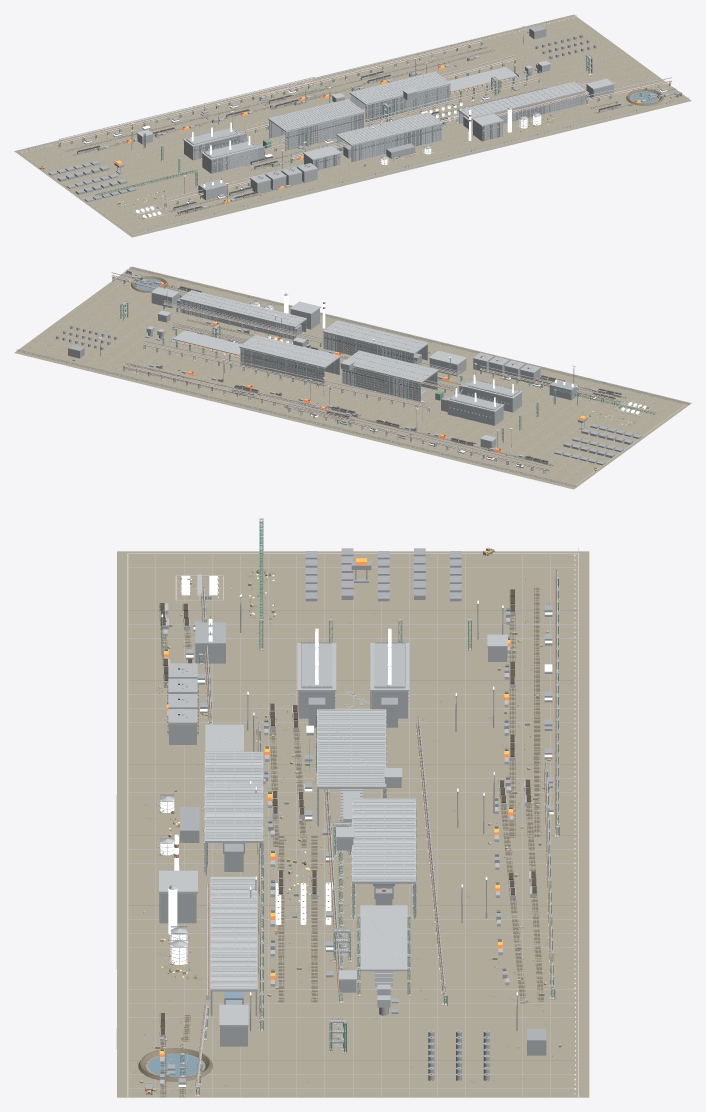
Rendered from rollingmill.glb.
3 views of the same model, one above another, from view 1: azimuth 30°, elevation 25°; view 2: azimuth 150°, elevation 25°; view 3: azimuth 270°, elevation 25° (orthographic). The views are drawn at different scales.
Visible parts, largest first — view 1: structure/mat_8b8166_48, structure/clad, structure/roof, structure/seam, galv/galv, structure/steelD, structure/pipeM, structure/green, structure/pipeR, fence/mesh, structure/concrete, structure/waste (+5 smaller); view 2: structure/mat_8b8166_48, structure/clad, structure/roof, structure/seam, galv/galv, structure/steelD, structure/pipeM, structure/green, structure/pipeR, structure/concrete, fence/mesh, structure/gray (+3 smaller); view 3: structure/mat_8b8166_48, structure/roof, structure/seam, galv/galv, structure/steelD, structure/waste, structure/clad, structure/green, structure/concrete, structure/gray, structure/pipeR, structure/ore (+4 smaller).
Part boxes in pixels (x1,y1,x2,y2): structure/mat_8b8166_48: (14, 14, 691, 237); structure/clad: (137, 64, 613, 200); structure/roof: (137, 60, 614, 214); structure/seam: (36, 19, 675, 229); galv/galv: (58, 27, 679, 215); structure/steelD: (48, 25, 666, 212); structure/pipeM: (60, 40, 671, 203); structure/green: (58, 42, 670, 207); structure/pipeR: (61, 40, 671, 203); fence/mesh: (17, 15, 688, 235); structure/concrete: (19, 16, 688, 234); structure/waste: (65, 46, 679, 216); structure/mat_8b8166_48: (14, 266, 691, 489); structure/clad: (151, 293, 578, 448); structure/roof: (151, 287, 643, 441); structure/seam: (29, 271, 672, 480); galv/galv: (100, 272, 626, 470); structure/steelD: (56, 273, 641, 467); structure/pipeM: (112, 275, 614, 469); structure/green: (112, 277, 655, 473); structure/pipeR: (112, 275, 614, 470); structure/concrete: (17, 268, 686, 486); fence/mesh: (17, 267, 688, 487); structure/gray: (131, 276, 622, 464); structure/mat_8b8166_48: (116, 551, 589, 1097); structure/roof: (159, 574, 507, 1026); structure/seam: (129, 554, 576, 1097); galv/galv: (156, 569, 558, 1096); structure/steelD: (159, 548, 557, 1084); structure/waste: (138, 587, 543, 1097); structure/clad: (160, 622, 507, 1046); structure/green: (180, 518, 559, 1095); structure/concrete: (127, 553, 578, 1096); structure/gray: (160, 590, 535, 1085); structure/pipeR: (195, 577, 556, 1088); structure/ore: (160, 589, 536, 1034).
Bounding box in the file's own units: 932 × 48.01 × 340.
Materials: 45 (4 with a texture image).
